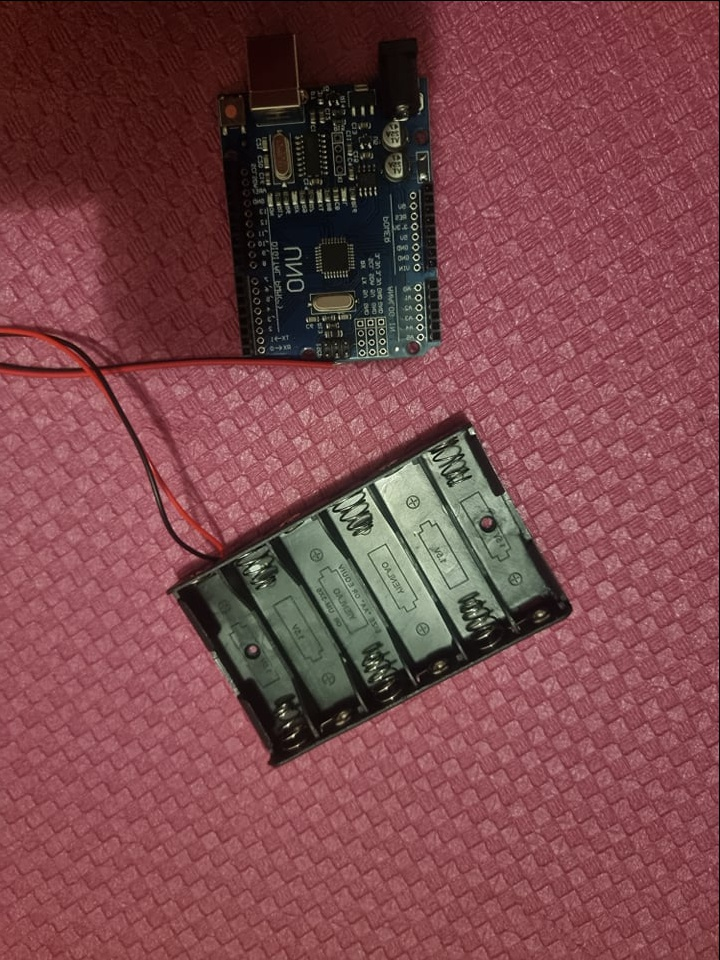BATTERY BOX: (171, 418, 574, 770)
UNO R3: (219, 18, 443, 364)
